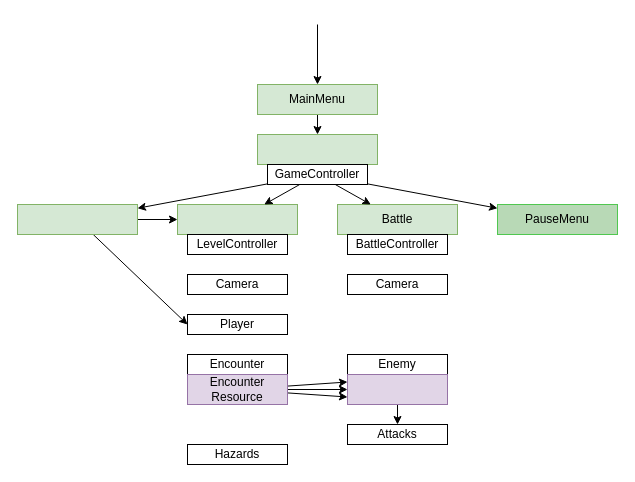
The diagram is 635 pixels wide and 482 high, and some of its shapes have lost their labels. Each missing label, with the centre of its shape:
Enemy Resource: the point at 397,389
Game: the point at 317,149
Level: the point at 237,219
UI: the point at 77,219
